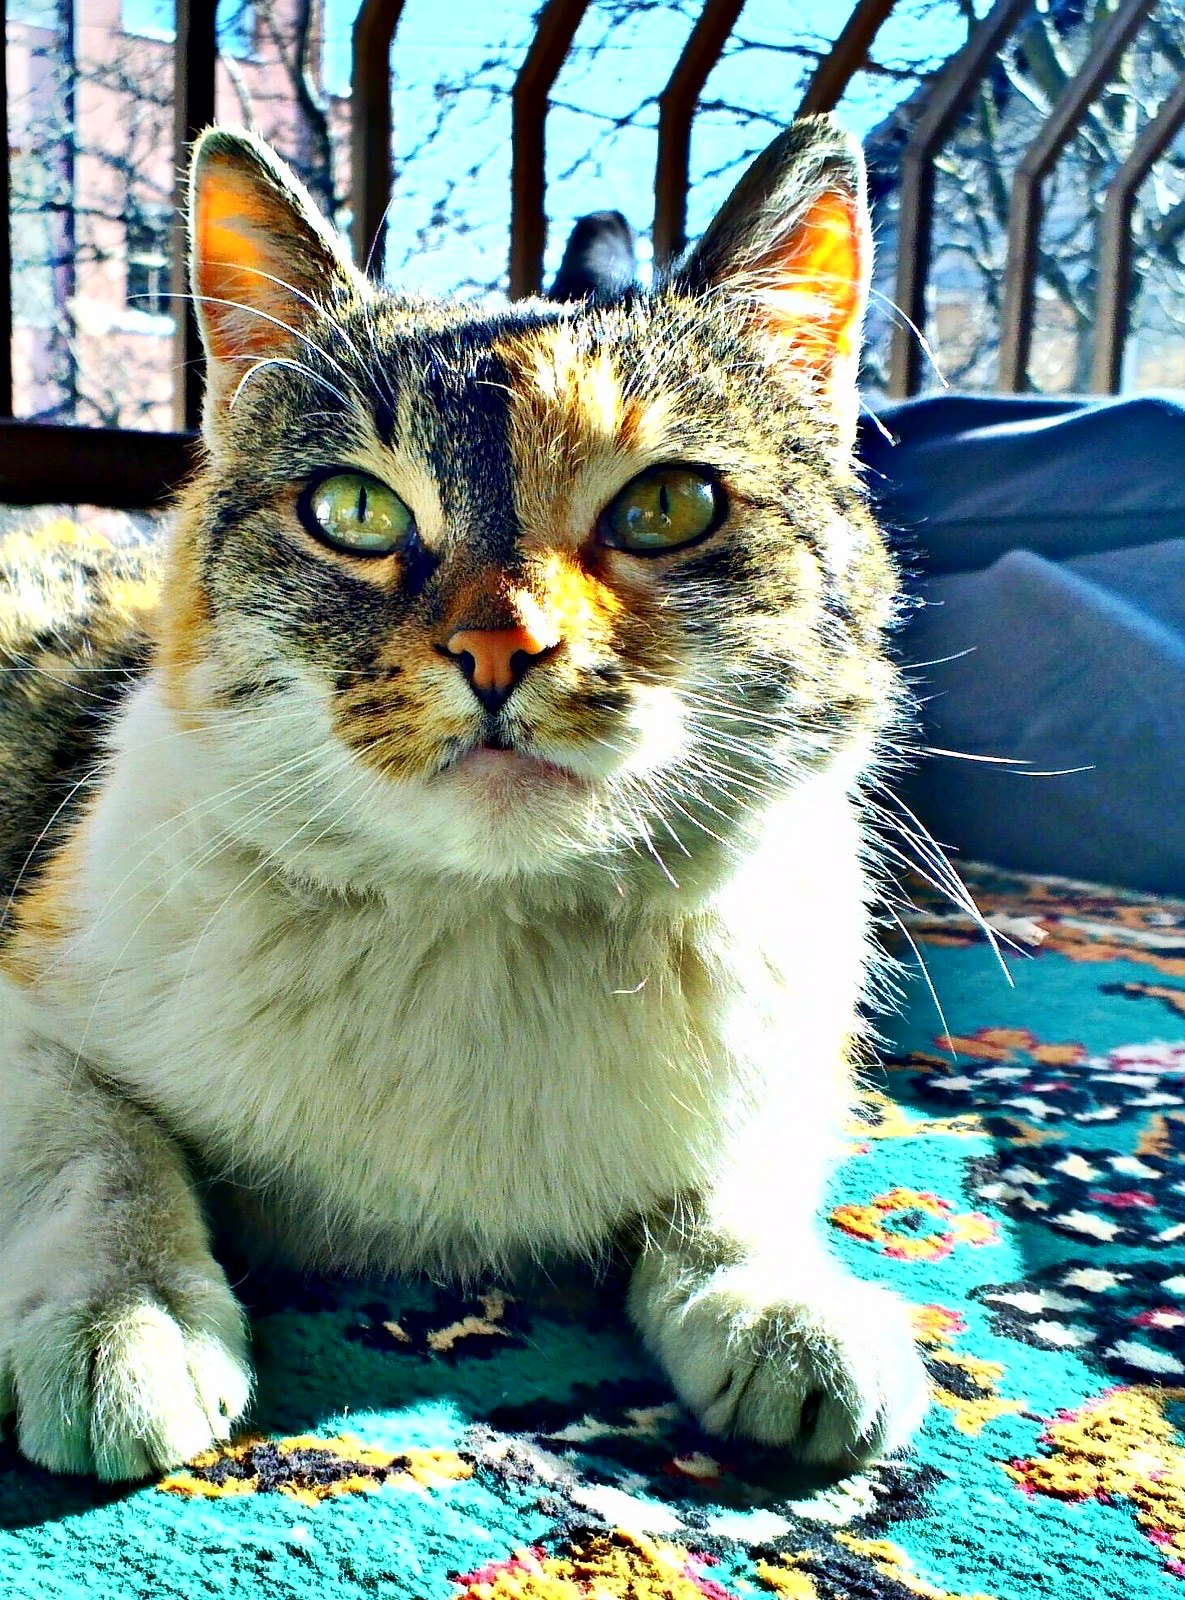cat: (29, 127, 927, 1495)
